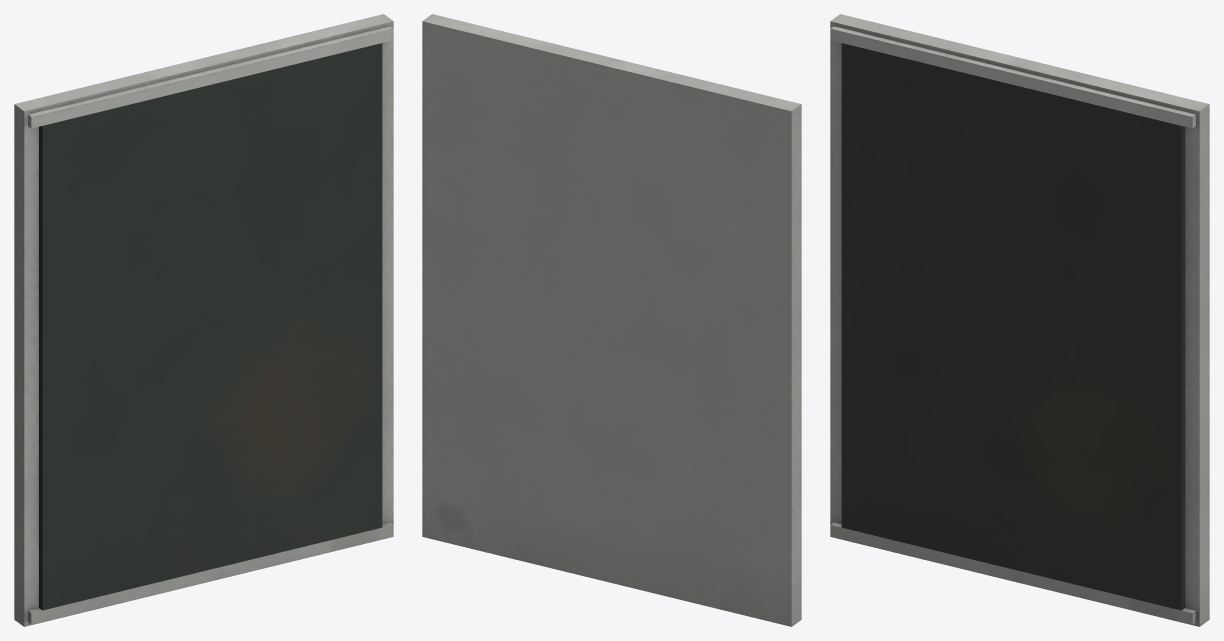
Rendered from H_Mirror.fbx.
3 views of the same model, side by side, from view 1: azimuth 30°, elevation 25°; view 2: azimuth 150°, elevation 25°; view 3: azimuth 330°, elevation 25° (orthographic).
Parts seen in each view (by area): view 1: H_Mirror; view 2: H_Mirror; view 3: H_Mirror.
Part boxes in pixels (x1,y1,x2,y2): H_Mirror: (14,14,393,626); H_Mirror: (422,14,801,626); H_Mirror: (830,14,1209,626).
Bounding box in the file's own units: 300 × 400 × 19.
1 material, 1 textured.
